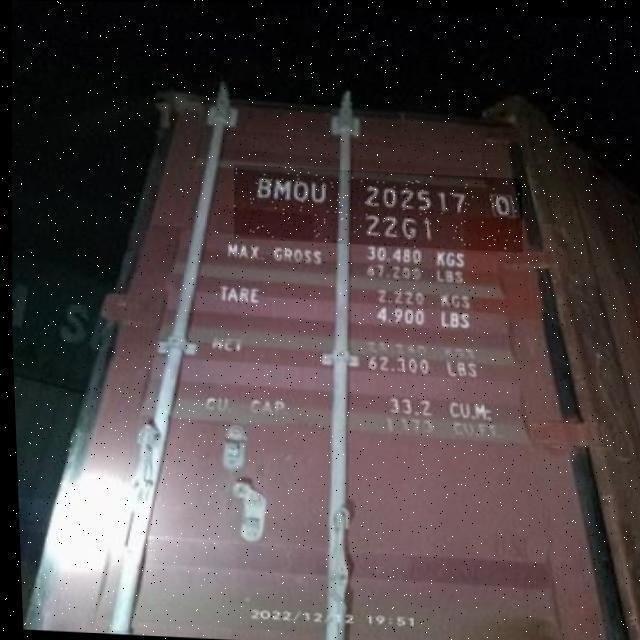container_number_h: (230, 163, 522, 250)
